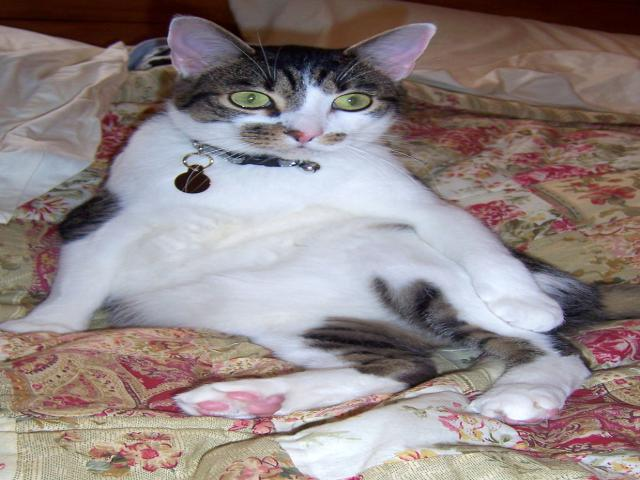Cat: (0, 16, 639, 426)
